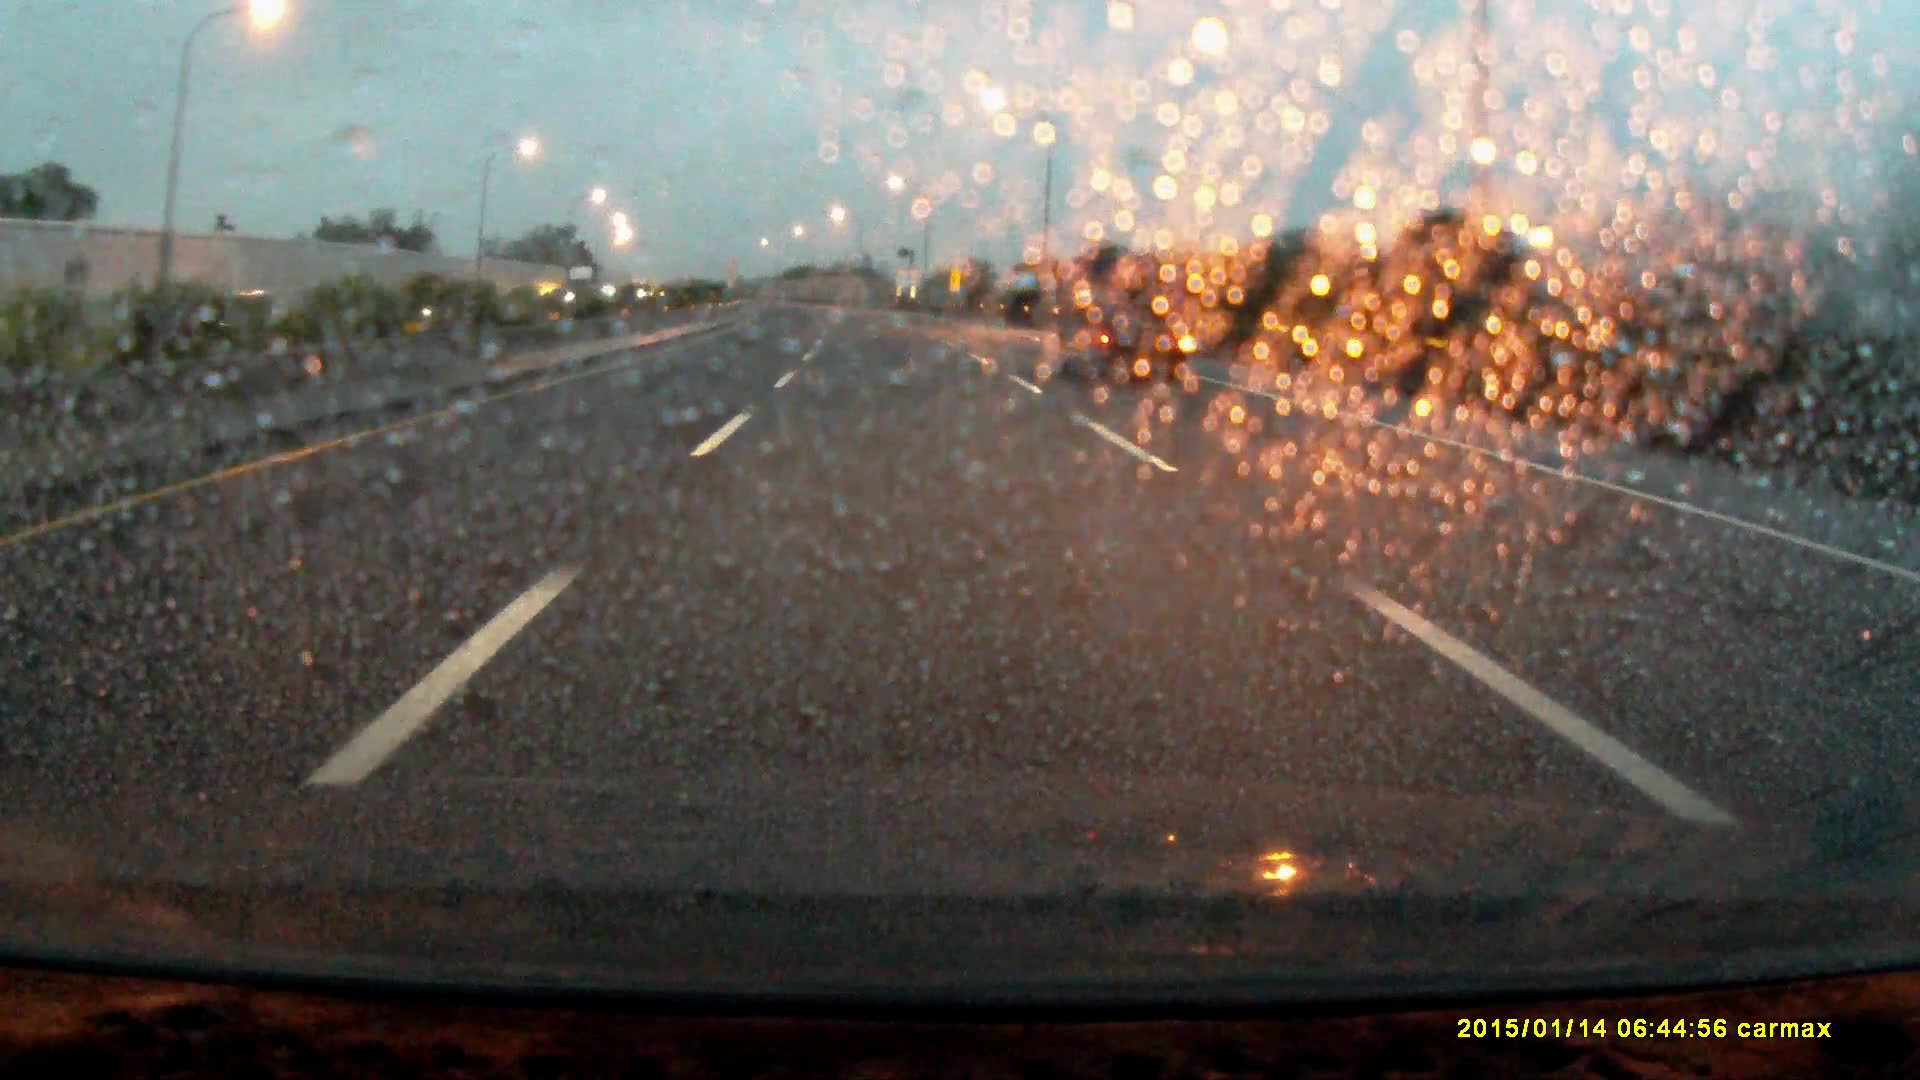vehicle: (1055, 256, 1193, 393), (567, 262, 603, 311)
